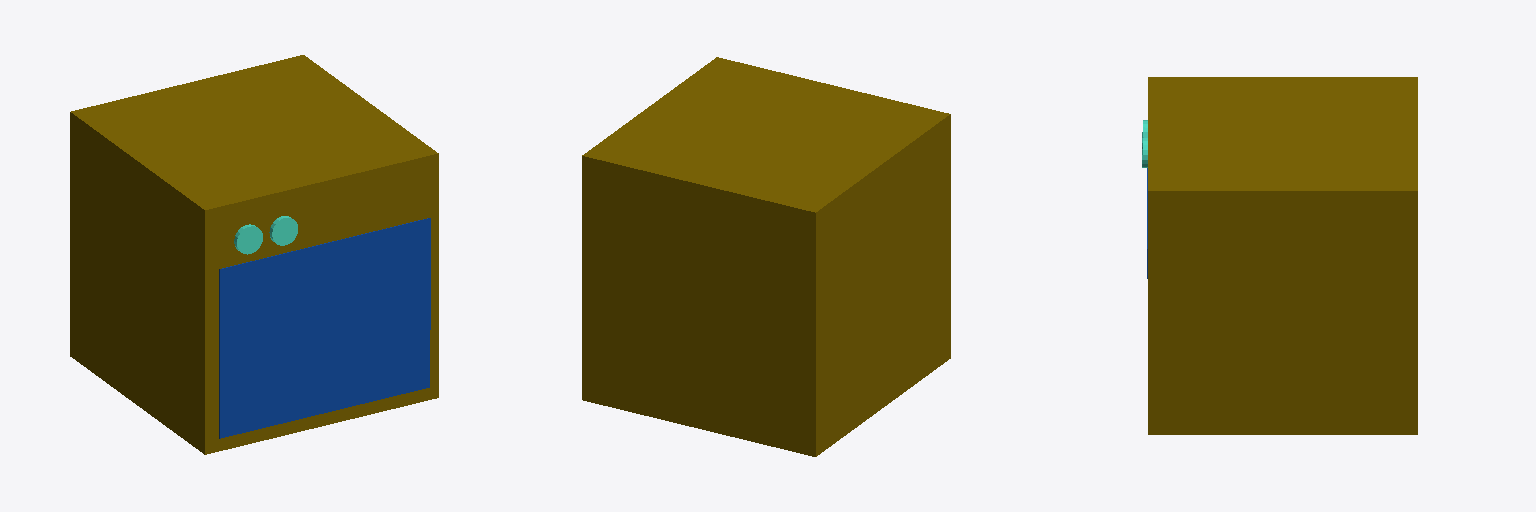
The model's file is oven.obj.
3 renders of one model, left to right at view 1: azimuth 30°, elevation 25°; view 2: azimuth 150°, elevation 25°; view 3: azimuth 270°, elevation 25°, orthographic.
Parts seen in each view (by area): view 1: Box001, Box002, Cylinder001, Cylinder002; view 2: Box001; view 3: Box001.
Boxes of the visible parts, box(x1,y1,x2,y2) form: Box001: box(70, 55, 438, 454); Box002: box(219, 218, 430, 438); Cylinder001: box(234, 224, 262, 254); Cylinder002: box(269, 216, 297, 245); Box001: box(582, 57, 950, 456); Box001: box(1148, 77, 1417, 434).
Bounding box in the file's own units: 40 × 40 × 40.94.